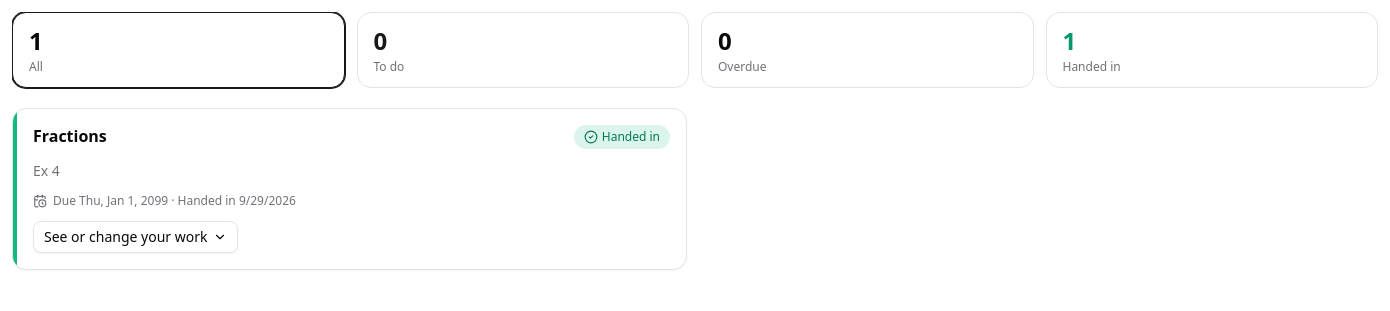
it: homework page for a student › filters by the summary buttons and says when nothing matches
Expected: the heading "Fractions" is shown, [33,125,107,147]
Step 1. Click the button "0 To do" → (389, 66), box [356,12,689,88]
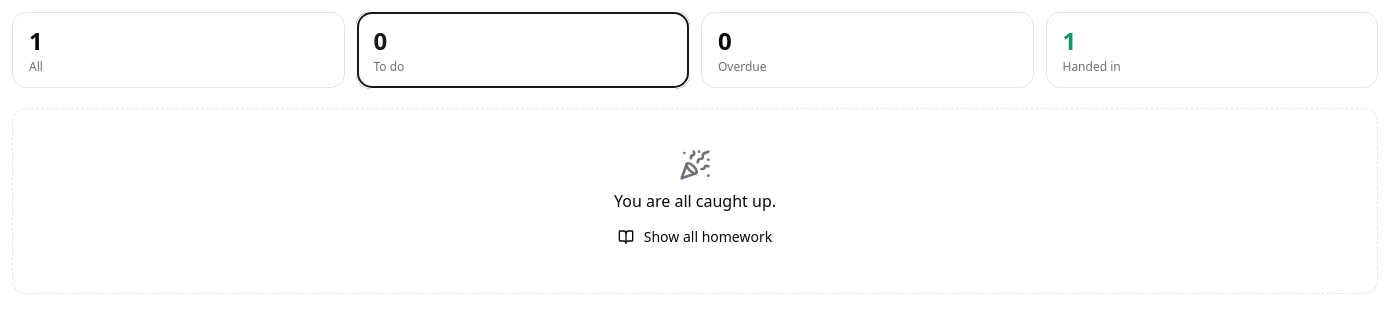
Now the text "You are all caught up." is shown, box [614,189,776,213]
Step 2. Click the button "Show all homework" → (695, 237), box [608,221,782,253]
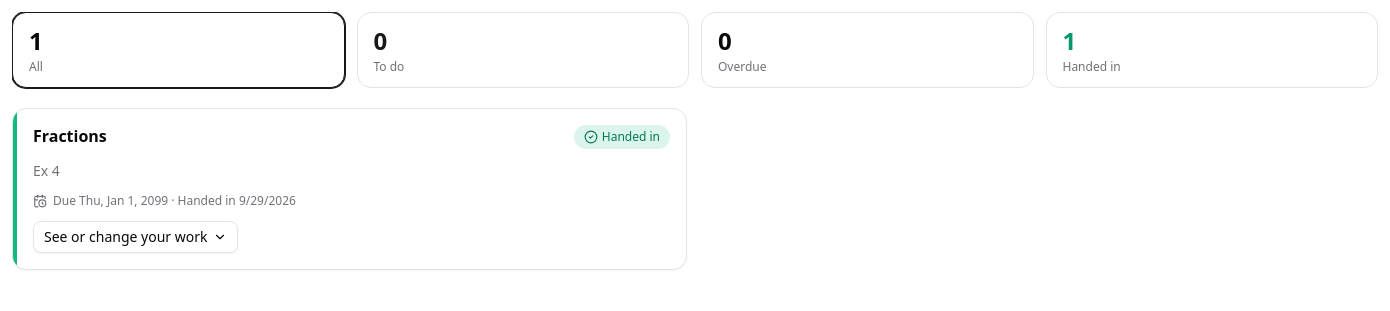
Now the heading "Fractions" is shown, box [33,125,107,147]
